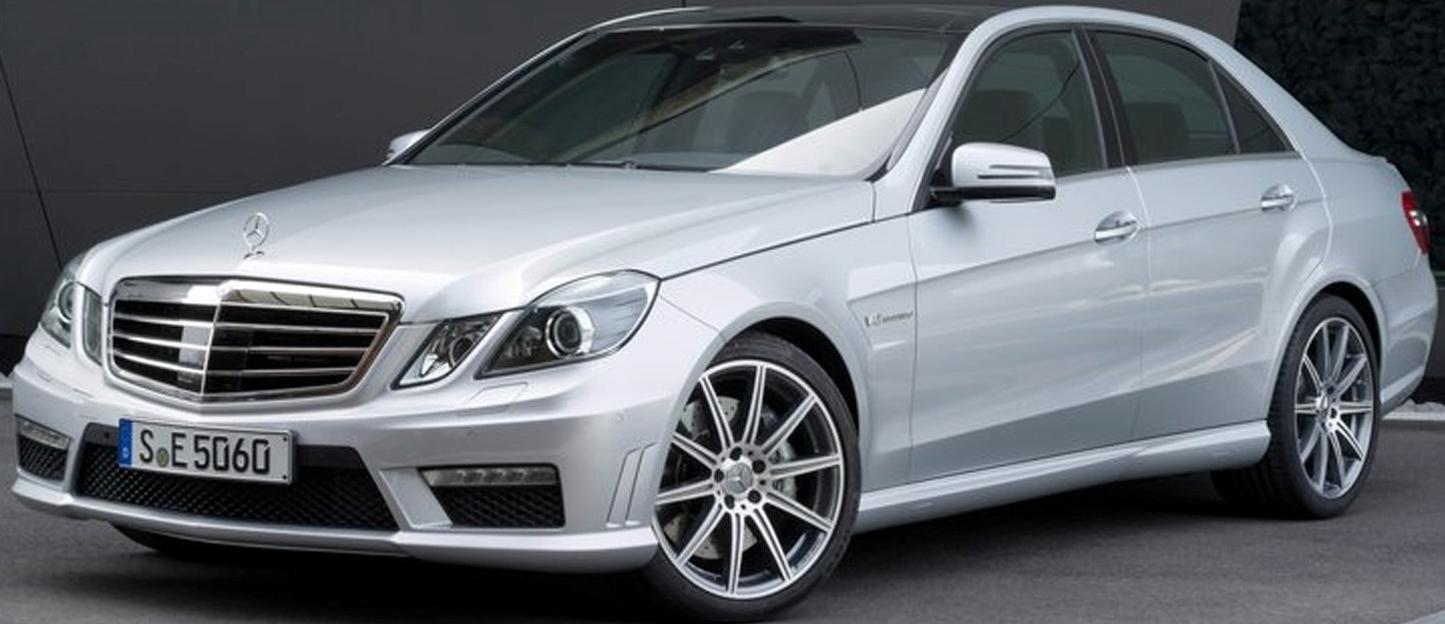front_view: (31, 248, 726, 572)
headlight: (412, 250, 735, 429)
side_glass: (938, 38, 1301, 189)
